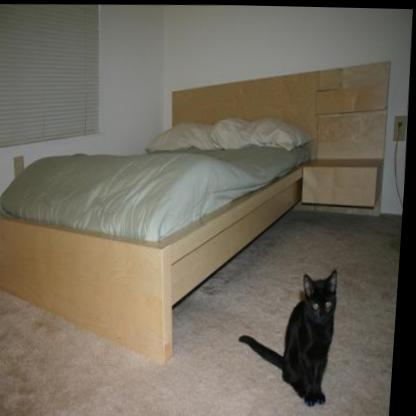Bed: (0, 48, 398, 365)
